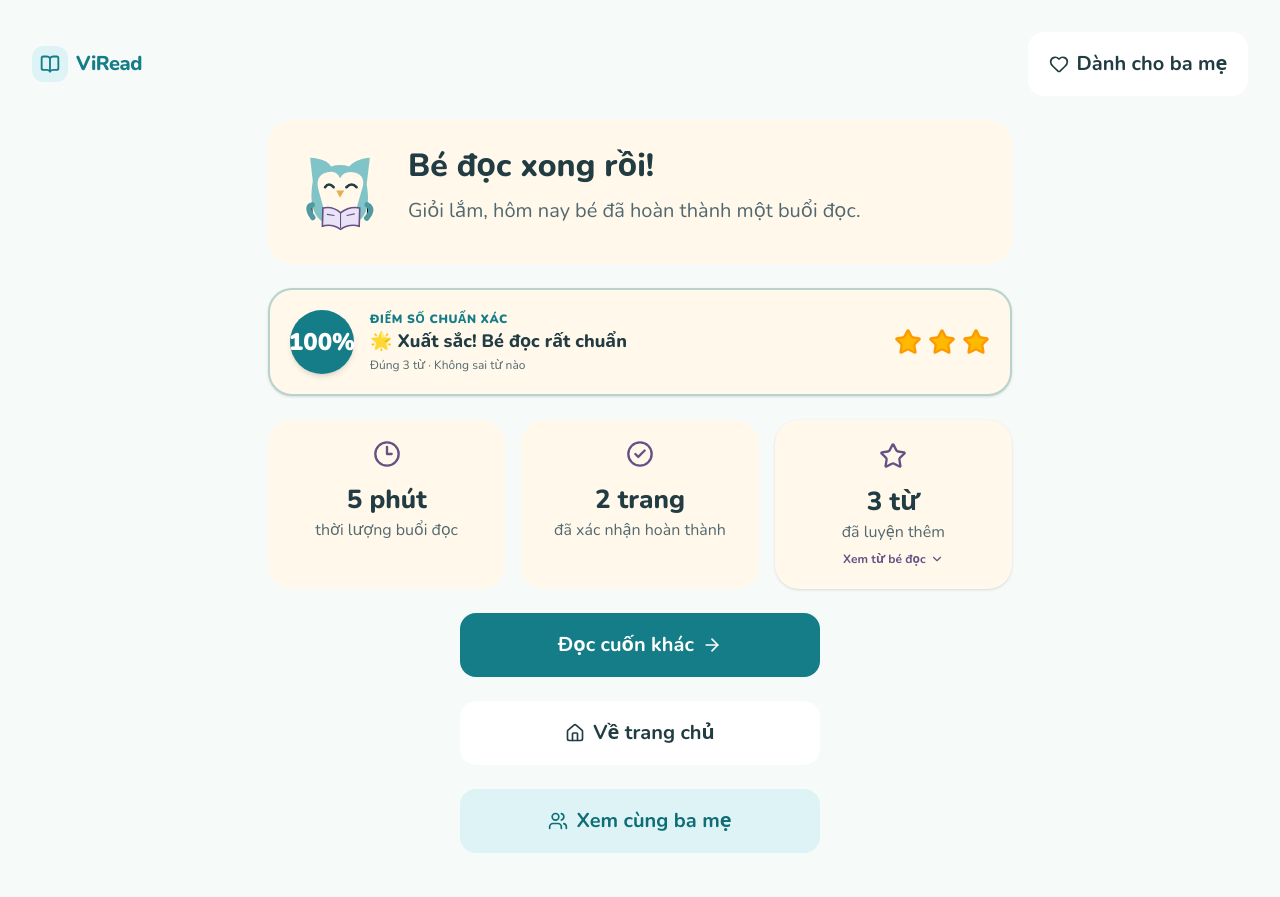
SessionComplete component › renders summary cards and toggles the spoken-words list
Expected: the text "5 phút" is shown, top-left (347, 482), bottom-right (427, 517)
Expected: the text "2 trang" is shown, top-left (595, 482), bottom-right (685, 517)
// Click on the result box ("ô kết quả")
Click the button "3 từ đã luyện thêm Xem từ bé đọc" at (893, 505), box top-left (775, 420), bottom-right (1012, 589)
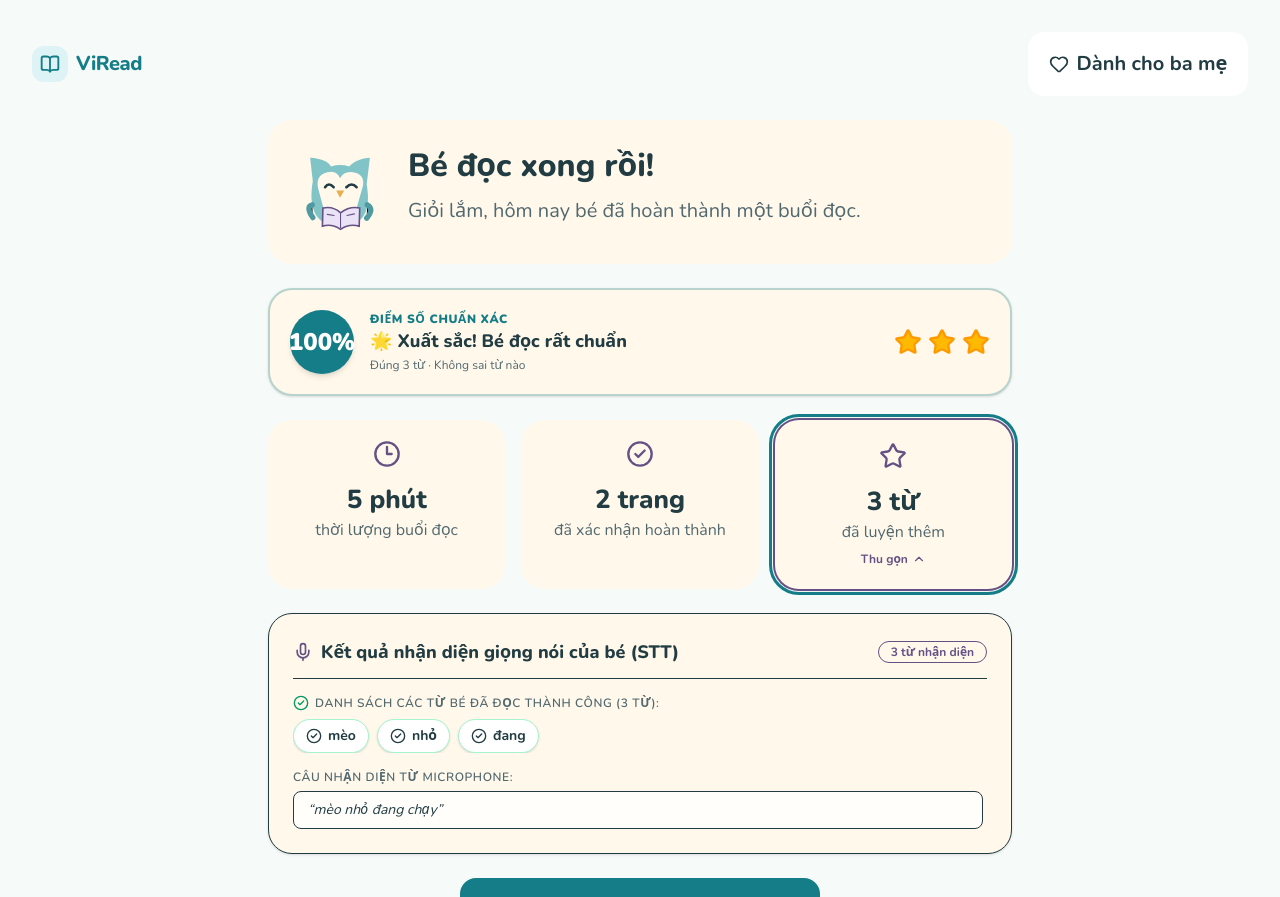
Expected: the element with test id "spoken-words-container" is shown, top-left (268, 613), bottom-right (1012, 854)
Expected: the heading "Kết quả nhận diện giọng nói của bé (STT)" is shown, top-left (321, 638), bottom-right (679, 666)
Expected: the text "3 từ nhận diện" is shown, top-left (878, 641), bottom-right (987, 663)
// Click again to collapse
Click the button "3 từ đã luyện thêm Thu gọn" at (893, 505), box top-left (775, 420), bottom-right (1012, 589)
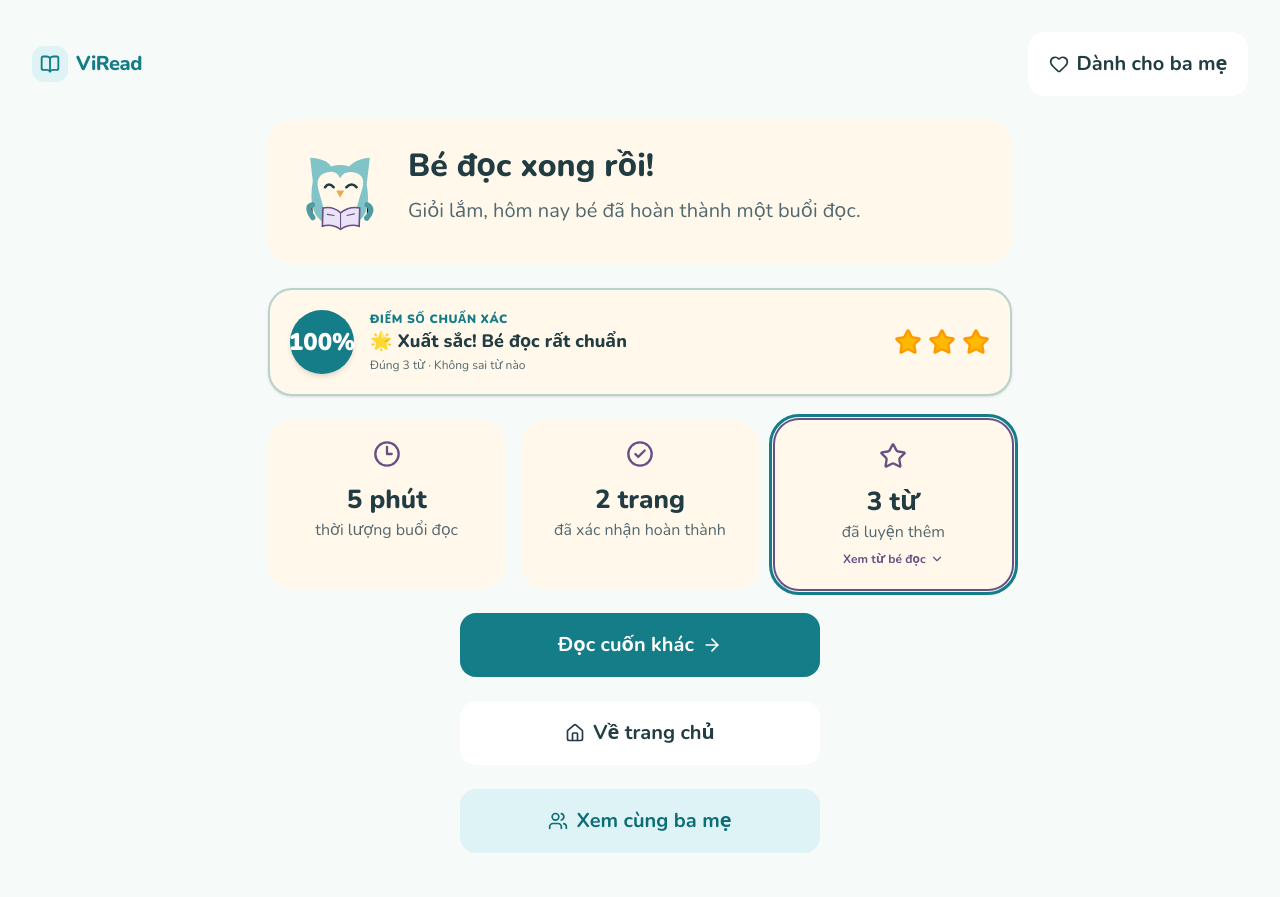
Expected: the element with test id "spoken-words-container" is gone
